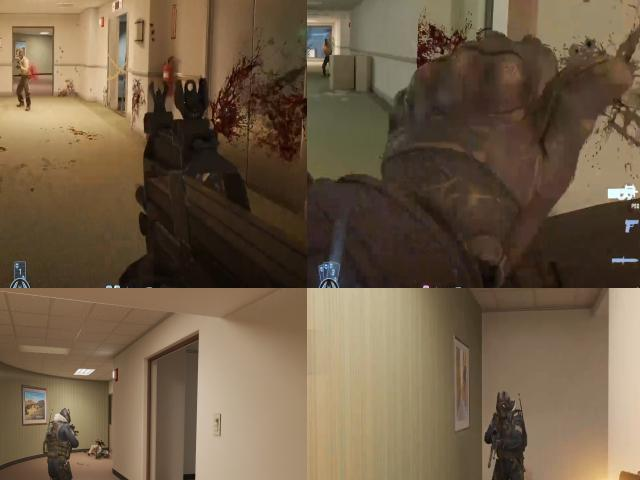CT: (490, 387, 525, 480), (51, 409, 72, 480), (496, 389, 515, 422)
CT-Head: (60, 410, 71, 420)
Dead: (90, 445, 108, 460)
T: (15, 42, 31, 92), (320, 37, 334, 57)
T-Head: (16, 46, 26, 64), (322, 38, 332, 47)
